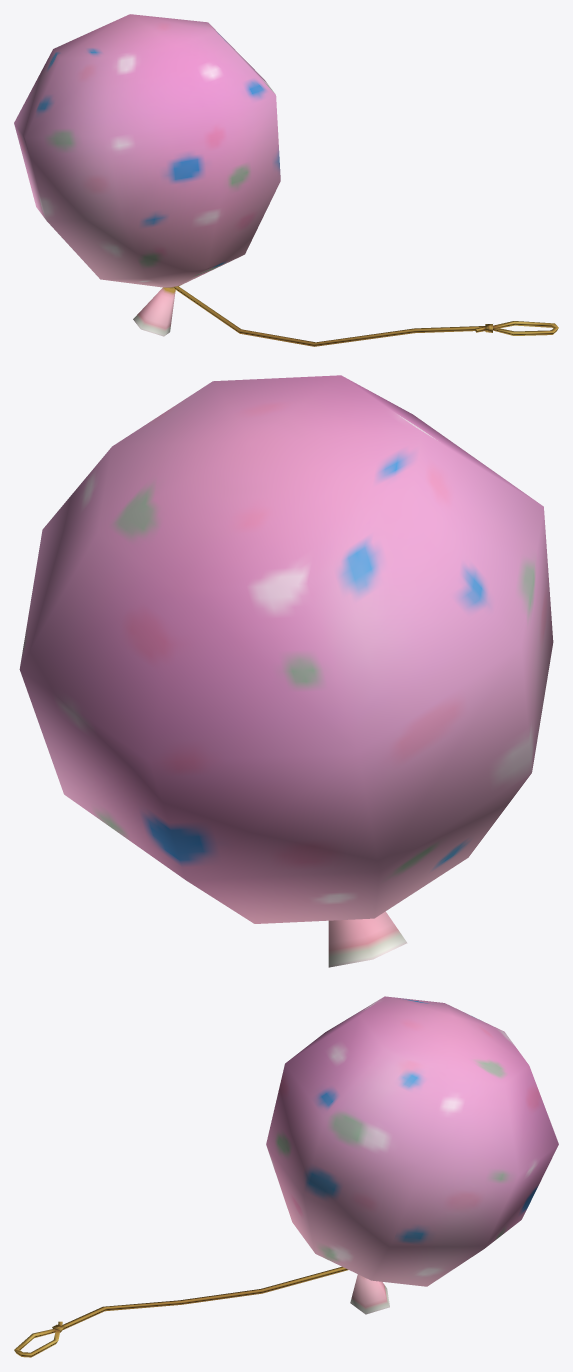
File: jsf_WaterBalloon_19_d.fbx
The picture shows the model from 3 angles, top to bottom: view 1: azimuth 30°, elevation 25°; view 2: azimuth 150°, elevation 25°; view 3: azimuth 270°, elevation 25°; orthographic projection. The views are drawn at different scales.
Visible parts, largest first — view 1: jsf_WaterBalloon_19_d; view 2: jsf_WaterBalloon_19_d; view 3: jsf_WaterBalloon_19_d.
Boxes of the visible parts, x1,y1,x2,y2 form: jsf_WaterBalloon_19_d: (14, 14, 558, 346); jsf_WaterBalloon_19_d: (19, 375, 553, 967); jsf_WaterBalloon_19_d: (14, 996, 558, 1357).
Bounding box in the file's own units: 15.63 × 12.55 × 20.67.
